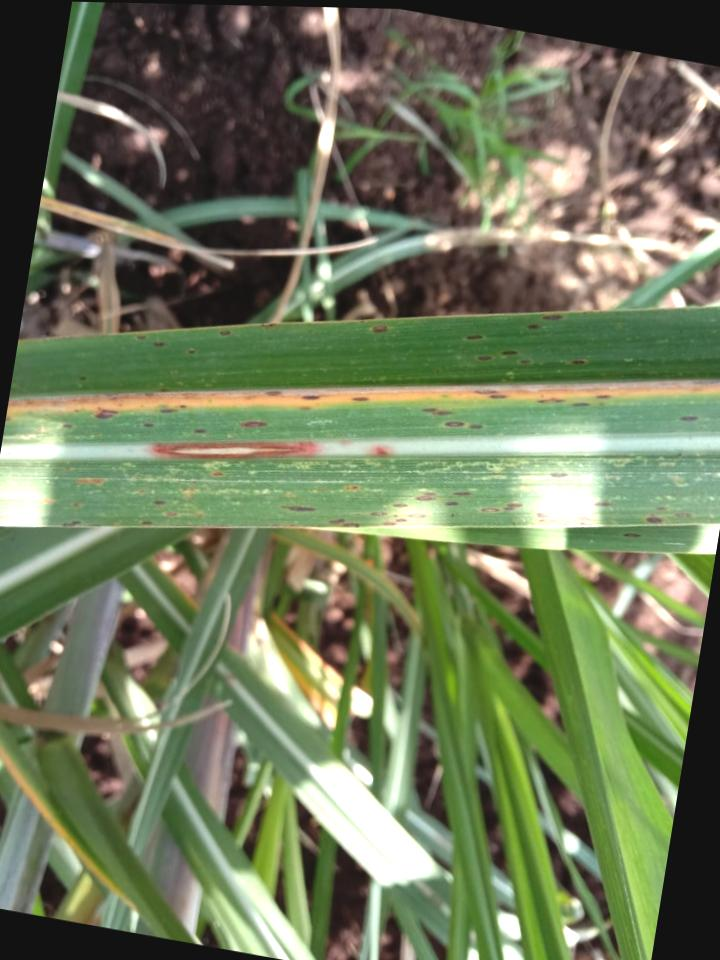RedRot: (143, 442, 324, 458), (367, 445, 395, 456)
Rust: (76, 478, 106, 488), (94, 407, 117, 420), (279, 505, 314, 512), (239, 421, 267, 428), (413, 493, 434, 502), (536, 398, 566, 404), (61, 521, 83, 527), (328, 518, 344, 526), (443, 422, 464, 428), (405, 513, 426, 519), (543, 315, 562, 321), (263, 391, 282, 397), (392, 502, 408, 509), (480, 507, 501, 512), (343, 485, 358, 492), (453, 492, 470, 498), (679, 416, 699, 421), (547, 473, 567, 478), (646, 517, 660, 524), (473, 391, 497, 395), (622, 533, 641, 538), (368, 327, 386, 332), (592, 502, 610, 507), (261, 324, 278, 329), (465, 335, 482, 340), (500, 351, 517, 356), (676, 512, 693, 517), (152, 500, 166, 506), (533, 513, 549, 518), (537, 518, 557, 522), (572, 403, 591, 407), (300, 396, 319, 400), (340, 523, 359, 527), (160, 409, 175, 414), (210, 472, 225, 477), (381, 522, 396, 527), (489, 395, 507, 399), (525, 324, 539, 329), (572, 360, 586, 365), (433, 412, 450, 416), (369, 512, 386, 516), (219, 330, 230, 336), (478, 356, 491, 361), (444, 501, 457, 506), (352, 398, 368, 402), (422, 408, 438, 412), (505, 503, 521, 507), (577, 522, 593, 526), (135, 336, 147, 341), (578, 516, 590, 521), (152, 342, 163, 347), (143, 423, 154, 428), (654, 506, 665, 511), (141, 521, 152, 526), (186, 349, 195, 355), (468, 425, 481, 429), (166, 512, 176, 517), (194, 430, 206, 434), (557, 522, 569, 526), (596, 396, 611, 399), (77, 376, 86, 381), (395, 519, 406, 523), (520, 360, 530, 364), (63, 424, 71, 428), (503, 507, 513, 510), (390, 514, 398, 517), (556, 516, 566, 518), (179, 406, 185, 409), (74, 409, 78, 413)
Yellow: (6, 385, 720, 419)
